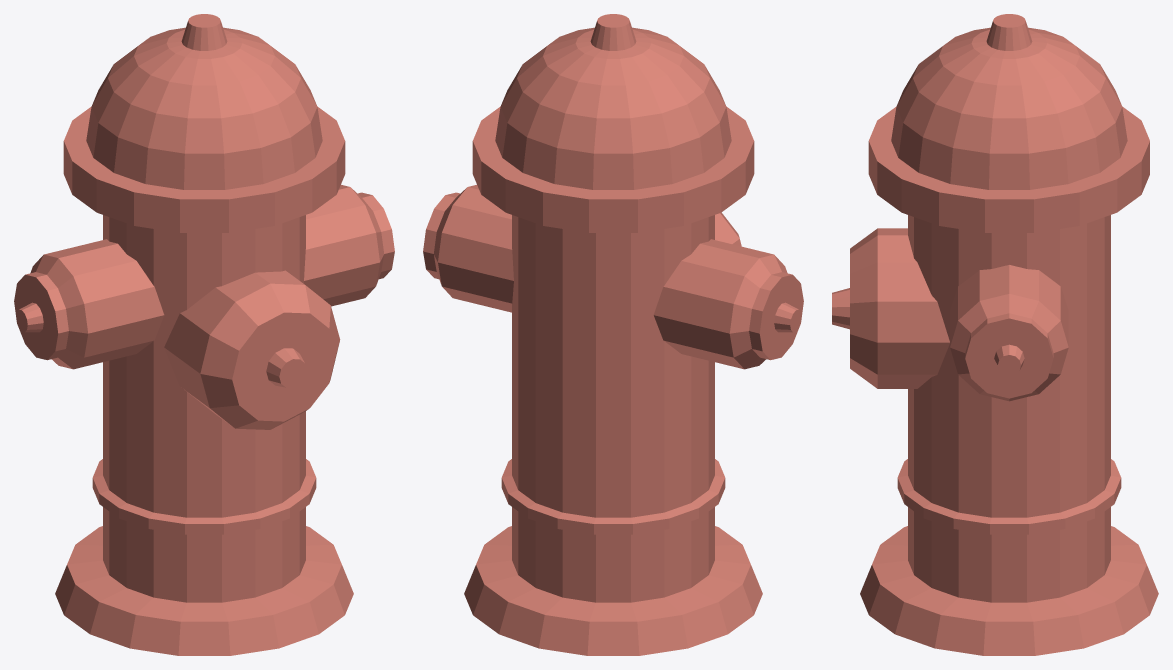
The model's file is env_hydrant_01.glb.
3 renders of one model, left to right at view 1: azimuth 30°, elevation 25°; view 2: azimuth 150°, elevation 25°; view 3: azimuth 270°, elevation 25°, orthographic.
Parts seen in each view (by area): view 1: _tmp_env_env_hydrant_01.obj; view 2: _tmp_env_env_hydrant_01.obj; view 3: _tmp_env_env_hydrant_01.obj.
Part boxes in pixels (<box>): _tmp_env_env_hydrant_01.obj: <box>14,14,394,655</box>; _tmp_env_env_hydrant_01.obj: <box>423,14,803,655</box>; _tmp_env_env_hydrant_01.obj: <box>832,14,1158,655</box>.
Size of the model in its own units: 0.5151 by 0.7724 by 0.3992.
